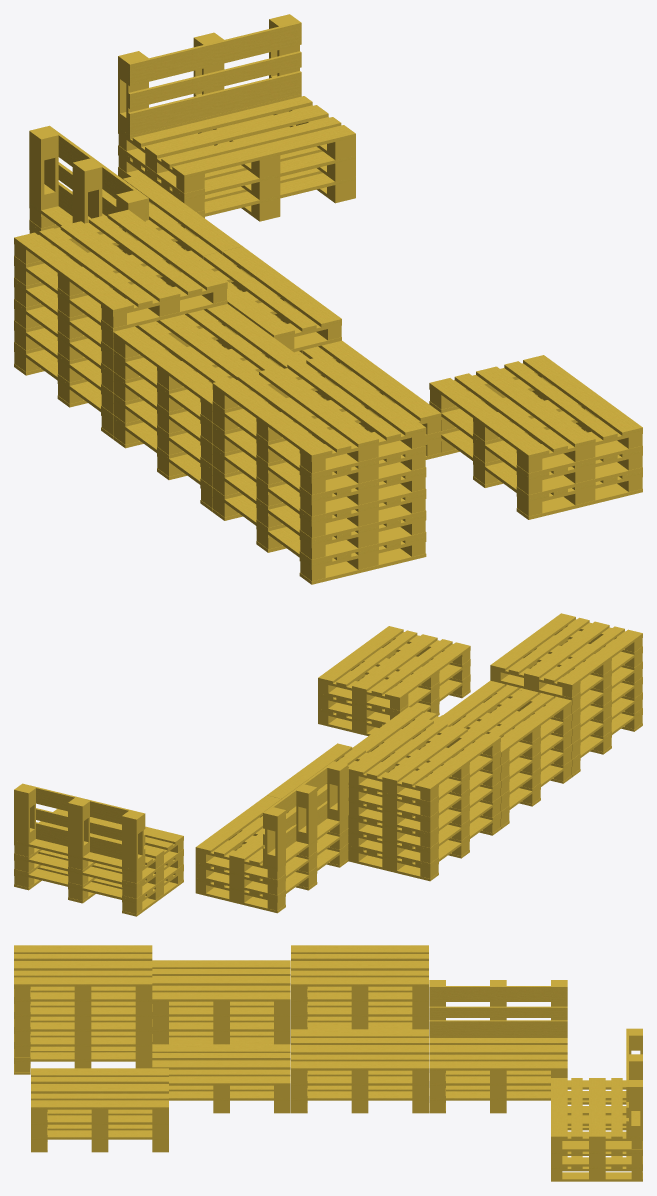
3 renders of one model, top to bottom at view 1: azimuth 30°, elevation 25°; view 2: azimuth 150°, elevation 25°; view 3: azimuth 270°, elevation 25°, orthographic. The views are drawn at different scales.
Parts seen in each view (by area): view 1: wooden pallet 1#1 (×26), wooden pallet 1#3 (×2); view 2: wooden pallet 1#1 (×28), wooden pallet 1#3 (×2); view 3: wooden pallet 1#1 (×28), wooden pallet 1#3 (×2).
Boxes of the visible parts, x1,y1,x2,y2 form: wooden pallet 1#1 (×26): [14, 94, 642, 584]; wooden pallet 1#3 (×2): [29, 14, 301, 223]; wooden pallet 1#1 (×28): [14, 613, 642, 916]; wooden pallet 1#3 (×2): [14, 761, 348, 870]; wooden pallet 1#1 (×28): [14, 945, 642, 1181]; wooden pallet 1#3 (×2): [429, 980, 642, 1136].
Bounding box in the file's own units: 3 × 0.9068 × 5.46.
1 material, 1 textured.
